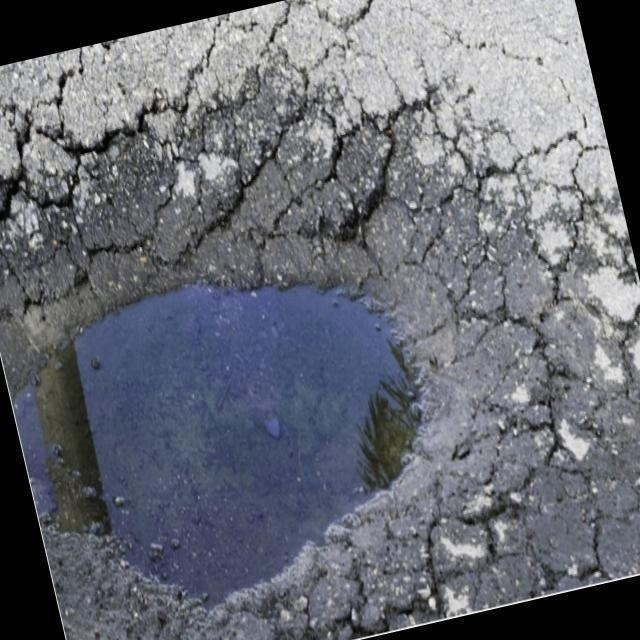pothole: (36, 210, 443, 595)
